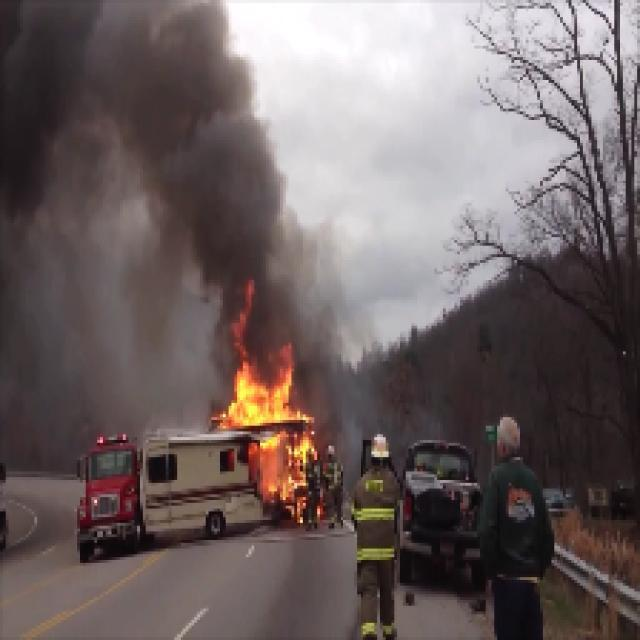Fire: (220, 366, 316, 518)
Smoke: (0, 0, 274, 291)
